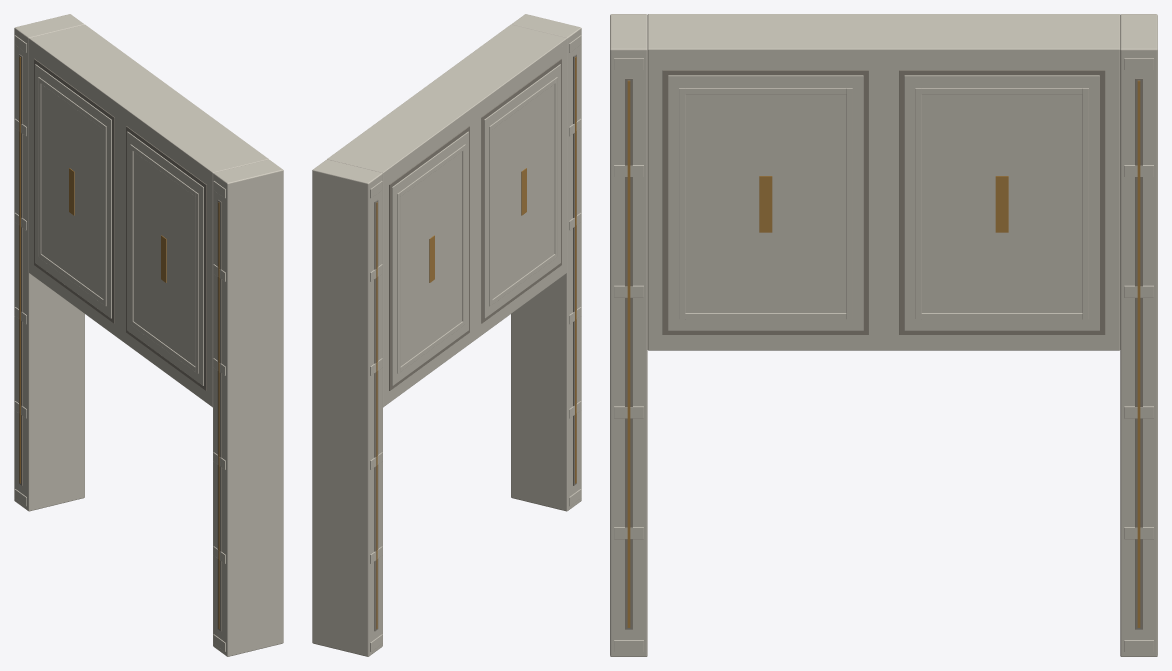
File: SM_Aurelion_KIT_Z06GateHousing.fbx
3 views of the same model, side by side, from view 1: azimuth 30°, elevation 25°; view 2: azimuth 150°, elevation 25°; view 3: azimuth 270°, elevation 25° (orthographic). The views are drawn at different scales.
Visible parts, largest first — view 1: SM_Aurelion_KIT_Z06GateHousing; view 2: SM_Aurelion_KIT_Z06GateHousing; view 3: SM_Aurelion_KIT_Z06GateHousing.
Boxes of the visible parts, x1=… form: SM_Aurelion_KIT_Z06GateHousing: x1=14, y1=14, x2=283, y2=656; SM_Aurelion_KIT_Z06GateHousing: x1=312, y1=14, x2=581, y2=656; SM_Aurelion_KIT_Z06GateHousing: x1=610, y1=14, x2=1157, y2=656.
Size of what is drawn, in the model's own units: 86.8 by 510 by 625.
